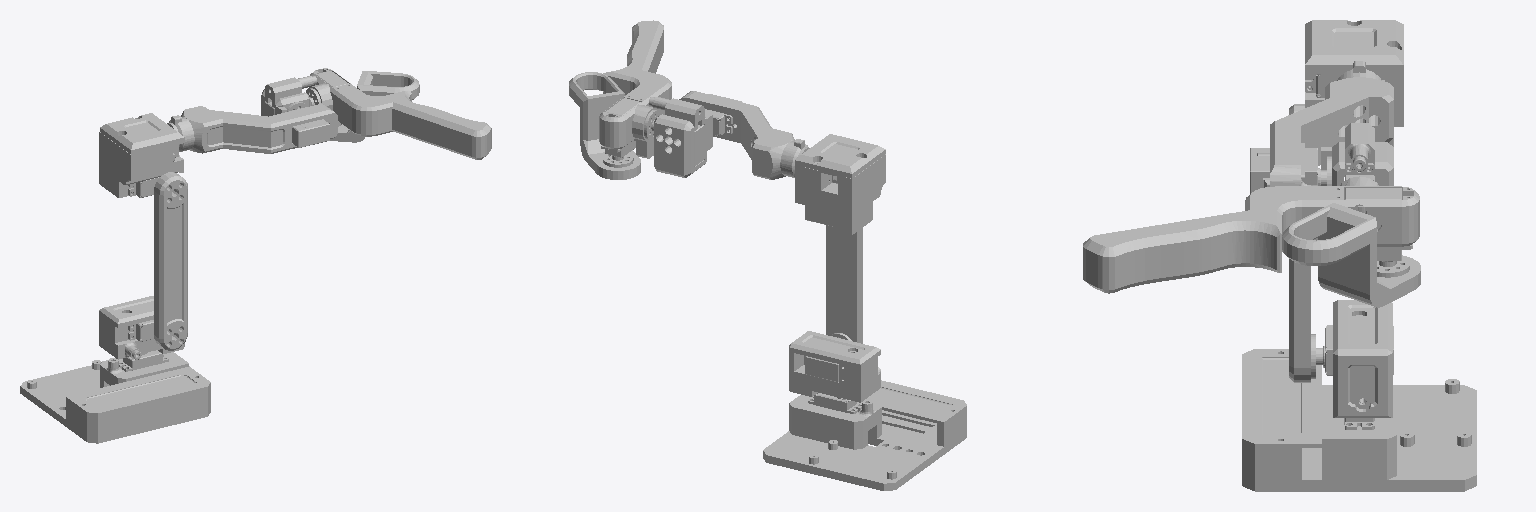
The robot description file, URDF, robot "RAFT":
<?xml version="1.0" encoding="utf-8"?>
<!-- RAFT leader arm (raft_description). GENERATED by tools/gen_model.py from the CM6 DH table, the RAFT link
     lengths and the SolidWorks mass properties. Do not hand-edit; see ../README.md.
     Link i frame = DH frame i-1 and joint i turns about its z axis; q = 0 is the standby pose (= PAR6 standby).
     PAR6 / RCB DH angles: theta = q + [0, -pi/2, pi, 0, 0, pi], not wrapped. Effort = servo stall torque.
     Limits: J2 and J3 from CAD collision checks; J1 and J4-J6 are +-180 deg placeholders until measured. -->
<robot name="RAFT">
  <!-- lets MuJoCo load this file directly; it drops the package:// part of mesh paths -->
  <mujoco><compiler meshdir="../meshes/" fusestatic="false"/></mujoco>
  <link name="base_link">
    <inertial>
      <origin xyz="-0.00730483363719 -0.000420419325433 0.010516627165" rpy="0 0 0"/>
      <mass value="0.08776"/>
      <inertia ixx="5.18931e-05" ixy="2.25048e-06" ixz="-3.40251e-06" iyy="6.09566e-05" iyz="3.09482e-06" izz="0.000102433"/>
    </inertial>
    <visual name="base_link_visual">
      <origin xyz="0 0 0" rpy="0 0 0"/>
      <geometry><mesh filename="package://raft_description/meshes/base_link.stl"/></geometry>
      <material name="grey"><color rgba="0.8 0.8 0.8 1"/></material>
    </visual>
    <collision name="base_link_collision">
      <origin xyz="0 0 0" rpy="0 0 0"/>
      <geometry><mesh filename="package://raft_description/meshes/base_link.stl"/></geometry>
    </collision>
  </link>
  <link name="link1">
    <inertial>
      <origin xyz="0.00683 -0.0001 0.04872" rpy="0 0 0"/>
      <mass value="0.04314"/>
      <inertia ixx="4.90853e-06" ixy="7.971e-08" ixz="1.499e-07" iyy="8.81203e-06" iyz="1.294e-08" izz="8.88116e-06"/>
    </inertial>
    <visual name="link1_visual">
      <origin xyz="0.013 0 0.05122" rpy="-1.57079632679 0 0"/>
      <geometry><mesh filename="package://raft_description/meshes/link1.stl"/></geometry>
      <material name="grey"><color rgba="0.8 0.8 0.8 1"/></material>
    </visual>
    <collision name="link1_collision">
      <origin xyz="0.013 0 0.05122" rpy="-1.57079632679 0 0"/>
      <geometry><mesh filename="package://raft_description/meshes/link1.stl"/></geometry>
    </collision>
  </link>
  <joint name="joint1" type="revolute">
    <origin xyz="0 0 0" rpy="0 0 0"/>
    <parent link="base_link"/>
    <child link="link1"/>
    <axis xyz="0 0 1"/>
    <limit lower="-3.14159" upper="3.14159" effort="0.588" velocity="6"/>
  </joint>
  <link name="link2">
    <inertial>
      <origin xyz="0 -0.05 -0.02315" rpy="0 0 0"/>
      <mass value="0.0182"/>
      <inertia ixx="2.3591e-05" ixy="0" ixz="0" iyy="7.8223e-07" iyz="0" izz="2.40451e-05"/>
    </inertial>
    <visual name="link2_visual">
      <origin xyz="0 -0.1 0" rpy="3.14159265359 0 -1.57079632679"/>
      <geometry><mesh filename="package://raft_description/meshes/link2.stl"/></geometry>
      <material name="grey"><color rgba="0.8 0.8 0.8 1"/></material>
    </visual>
    <collision name="link2_collision">
      <origin xyz="0 -0.1 0" rpy="3.14159265359 0 -1.57079632679"/>
      <geometry><mesh filename="package://raft_description/meshes/link2.stl"/></geometry>
    </collision>
  </link>
  <joint name="joint2" type="revolute">
    <origin xyz="0.013 0 0.05122" rpy="-1.57079632679 0 0"/>
    <parent link="link1"/>
    <child link="link2"/>
    <axis xyz="0 0 1"/>
    <limit lower="-1.8326" upper="2.26893" effort="0.588" velocity="6"/>
  </joint>
  <link name="link3">
    <inertial>
      <origin xyz="0.01484 0.00744 0.0025" rpy="0 0 0"/>
      <mass value="0.0714"/>
      <inertia ixx="1.3758e-05" ixy="-7.469e-08" ixz="-1.53769e-06" iyy="1.73834e-05" iyz="2.9759e-07" izz="1.81406e-05"/>
    </inertial>
    <visual name="link3_visual">
      <origin xyz="0.02416 0 0" rpy="1.57079632679 0 3.14159265359"/>
      <geometry><mesh filename="package://raft_description/meshes/link3.stl"/></geometry>
      <material name="grey"><color rgba="0.8 0.8 0.8 1"/></material>
    </visual>
    <collision name="link3_collision">
      <origin xyz="0.02416 0 0" rpy="1.57079632679 0 3.14159265359"/>
      <geometry><mesh filename="package://raft_description/meshes/link3.stl"/></geometry>
    </collision>
  </link>
  <joint name="joint3" type="revolute">
    <origin xyz="0 -0.1 0" rpy="3.14159265359 0 -1.57079632679"/>
    <parent link="link2"/>
    <child link="link3"/>
    <axis xyz="0 0 1"/>
    <limit lower="-1.309" upper="2.61799" effort="0.588" velocity="6"/>
  </joint>
  <link name="link4">
    <inertial>
      <origin xyz="-2e-05 0.02135 -0.07139" rpy="0 0 0"/>
      <mass value="0.0461"/>
      <inertia ixx="4.66724e-05" ixy="-1.577e-08" ixz="4.116e-08" iyy="3.83882e-05" iyz="1.53861e-05" izz="1.07566e-05"/>
    </inertial>
    <visual name="link4_visual">
      <origin xyz="0 0 -0.09792" rpy="-1.57079632679 0 0"/>
      <geometry><mesh filename="package://raft_description/meshes/link4.stl"/></geometry>
      <material name="grey"><color rgba="0.8 0.8 0.8 1"/></material>
    </visual>
    <collision name="link4_collision">
      <origin xyz="0 0 -0.09792" rpy="-1.57079632679 0 0"/>
      <geometry><mesh filename="package://raft_description/meshes/link4.stl"/></geometry>
    </collision>
  </link>
  <joint name="joint4" type="revolute">
    <origin xyz="0.02416 0 0" rpy="1.57079632679 0 3.14159265359"/>
    <parent link="link3"/>
    <child link="link4"/>
    <axis xyz="0 0 1"/>
    <limit lower="-3.14159" upper="3.14159" effort="0.588" velocity="6"/>
  </joint>
  <link name="link5">
    <inertial>
      <origin xyz="0.00464 3e-05 0.00048" rpy="0 0 0"/>
      <mass value="0.0351"/>
      <inertia ixx="3.42008e-06" ixy="3.215e-08" ixz="1.3694e-07" iyy="4.47832e-06" iyz="4.161e-08" izz="5.27248e-06"/>
    </inertial>
    <visual name="link5_visual">
      <origin xyz="0 0 0" rpy="1.57079632679 0 0"/>
      <geometry><mesh filename="package://raft_description/meshes/link5.stl"/></geometry>
      <material name="grey"><color rgba="0.8 0.8 0.8 1"/></material>
    </visual>
    <collision name="link5_collision">
      <origin xyz="0 0 0" rpy="1.57079632679 0 0"/>
      <geometry><mesh filename="package://raft_description/meshes/link5.stl"/></geometry>
    </collision>
  </link>
  <joint name="joint5" type="revolute">
    <origin xyz="0 0 -0.09792" rpy="-1.57079632679 0 0"/>
    <parent link="link4"/>
    <child link="link5"/>
    <axis xyz="0 0 1"/>
    <limit lower="-3.14159" upper="3.14159" effort="0.588" velocity="6"/>
  </joint>
  <link name="link6">
    <inertial>
      <origin xyz="0.00162 0.02617 -0.04571" rpy="0 0 0"/>
      <mass value="0.0553"/>
      <inertia ixx="9.01654e-05" ixy="2.77967e-06" ixz="-1.00802e-06" iyy="1.87513e-05" iyz="3.05318e-05" izz="7.6915e-05"/>
    </inertial>
    <visual name="link6_visual">
      <origin xyz="0 0 -0.078277" rpy="3.14159265359 0 3.14159265359"/>
      <geometry><mesh filename="package://raft_description/meshes/link6.stl"/></geometry>
      <material name="grey"><color rgba="0.8 0.8 0.8 1"/></material>
    </visual>
    <collision name="link6_collision">
      <origin xyz="0 0 -0.078277" rpy="3.14159265359 0 3.14159265359"/>
      <geometry><mesh filename="package://raft_description/meshes/link6.stl"/></geometry>
    </collision>
  </link>
  <joint name="joint6" type="revolute">
    <origin xyz="0 0 0" rpy="1.57079632679 0 0"/>
    <parent link="link5"/>
    <child link="link6"/>
    <axis xyz="0 0 1"/>
    <limit lower="-3.14159" upper="3.14159" effort="0.588" velocity="6"/>
  </joint>
  <link name="tcp"/>
  <joint name="tcp_joint" type="fixed">
    <origin xyz="0 0 -0.078277" rpy="3.14159265359 0 3.14159265359"/>
    <parent link="link6"/>
    <child link="tcp"/>
  </joint>
  <link name="gripper_trigger">
    <inertial>
      <origin xyz="-0.0131 0.0152 0.01278" rpy="0 0 0"/>
      <mass value="0.0143"/>
      <inertia ixx="4.94175e-06" ixy="1.37642e-06" ixz="-1.42386e-06" iyy="4.41935e-06" iyz="1.71948e-06" izz="4.54686e-06"/>
    </inertial>
    <visual name="gripper_trigger_visual">
      <origin xyz="0 0 0" rpy="0 0 0"/>
      <geometry><mesh filename="package://raft_description/meshes/gripper_trigger.stl"/></geometry>
      <material name="grey"><color rgba="0.8 0.8 0.8 1"/></material>
    </visual>
    <collision name="gripper_trigger_collision">
      <origin xyz="0 0 0" rpy="0 0 0"/>
      <geometry><mesh filename="package://raft_description/meshes/gripper_trigger.stl"/></geometry>
    </collision>
  </link>
  <joint name="gripper_trigger_joint" type="revolute">
    <origin xyz="0 -0.01129 -0.03571" rpy="-1.57079632679 0 -1.57079632679"/>
    <parent link="link6"/>
    <child link="gripper_trigger"/>
    <axis xyz="0 0 1"/>
    <limit lower="-1.5708" upper="1.5708" effort="0.588" velocity="6"/>
  </joint>
</robot>

--- What the picture shows (computed from the rendered views, not written in the file) ---
3 views of the same robot in one strip: view 1: azimuth 30°, elevation 25°; view 2: azimuth 150°, elevation 25°; view 3: azimuth 270°, elevation 25° (orthographic).
Robot: RAFT — 9 links, 8 joints (7 revolute, 1 fixed); root link base_link; default pose: all joints at 0.
Visible links, largest first — view 1: base_link, link6, link4, link2, link3, link1, gripper_trigger, link5; view 2: base_link, link3, link6, link1, link4, link2, link5, gripper_trigger; view 3: base_link, link6, link4, gripper_trigger, link1, link3, link5, link2.
Boxes of the visible links, x1,y1,x2,y2 form: base_link: [20, 350, 210, 443]; link6: [306, 68, 491, 159]; link4: [167, 104, 337, 153]; link2: [154, 172, 187, 350]; link3: [99, 113, 184, 197]; link1: [99, 296, 184, 359]; gripper_trigger: [330, 71, 419, 142]; link5: [261, 76, 316, 116]; base_link: [763, 380, 966, 490]; link3: [795, 134, 885, 234]; link6: [599, 20, 671, 158]; link1: [789, 331, 880, 402]; link4: [679, 91, 809, 179]; link2: [826, 225, 862, 343]; link5: [649, 97, 712, 177]; gripper_trigger: [569, 72, 640, 179]; base_link: [1242, 349, 1476, 491]; link6: [1083, 176, 1419, 293]; link4: [1250, 61, 1393, 193]; gripper_trigger: [1282, 203, 1420, 307]; link1: [1323, 300, 1393, 417]; link3: [1305, 20, 1403, 146]; link5: [1321, 123, 1393, 185]; link2: [1289, 104, 1322, 382].
Bounding box of the posed robot: 0.2597 × 0.1576 × 0.1941 m (x, y, z).
8 mesh visuals loaded from 8 distinct referenced files (8 binary STL).
